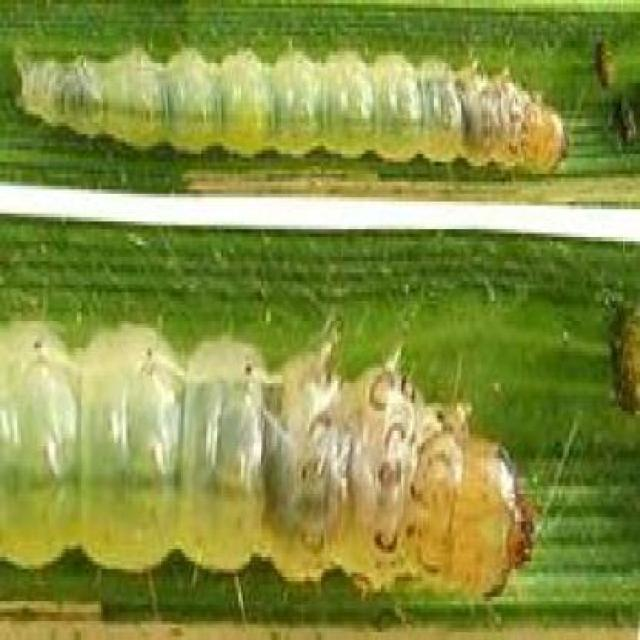leaf-folder: (41, 319, 542, 624), (14, 24, 588, 222)
